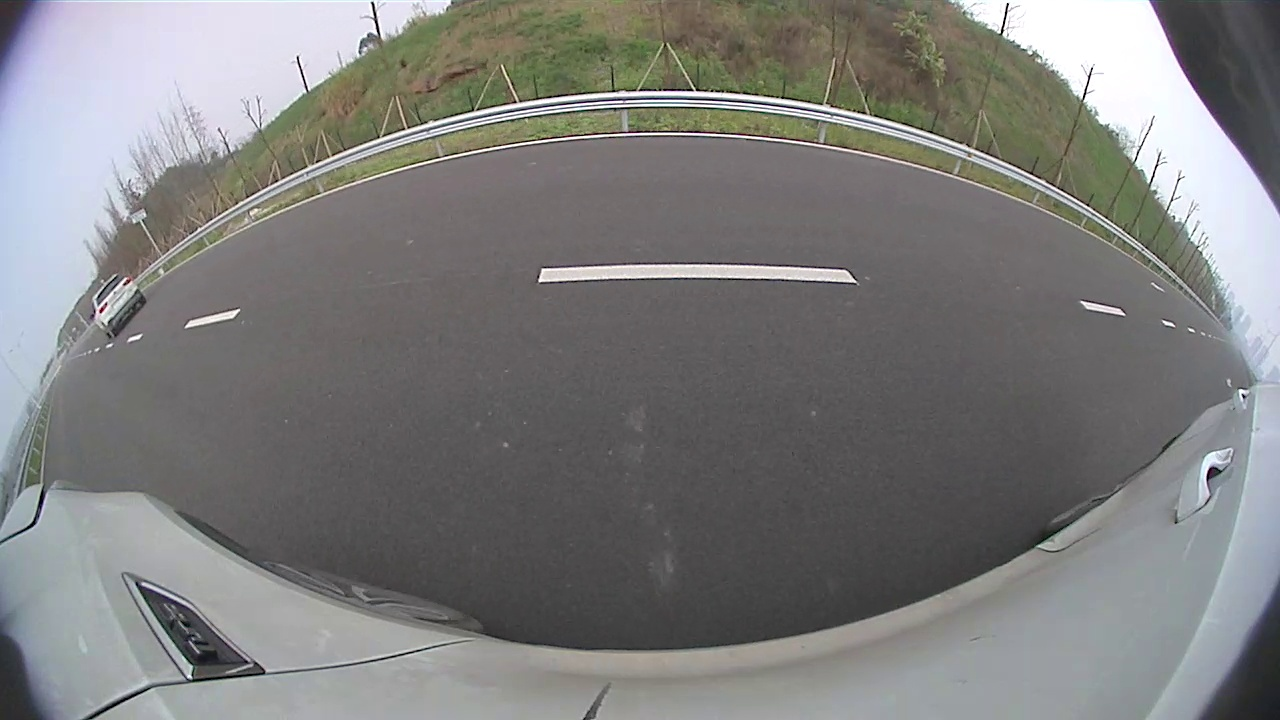car: (696, 148, 769, 196)
front: (696, 172, 705, 190)
rear: (711, 173, 722, 194)
